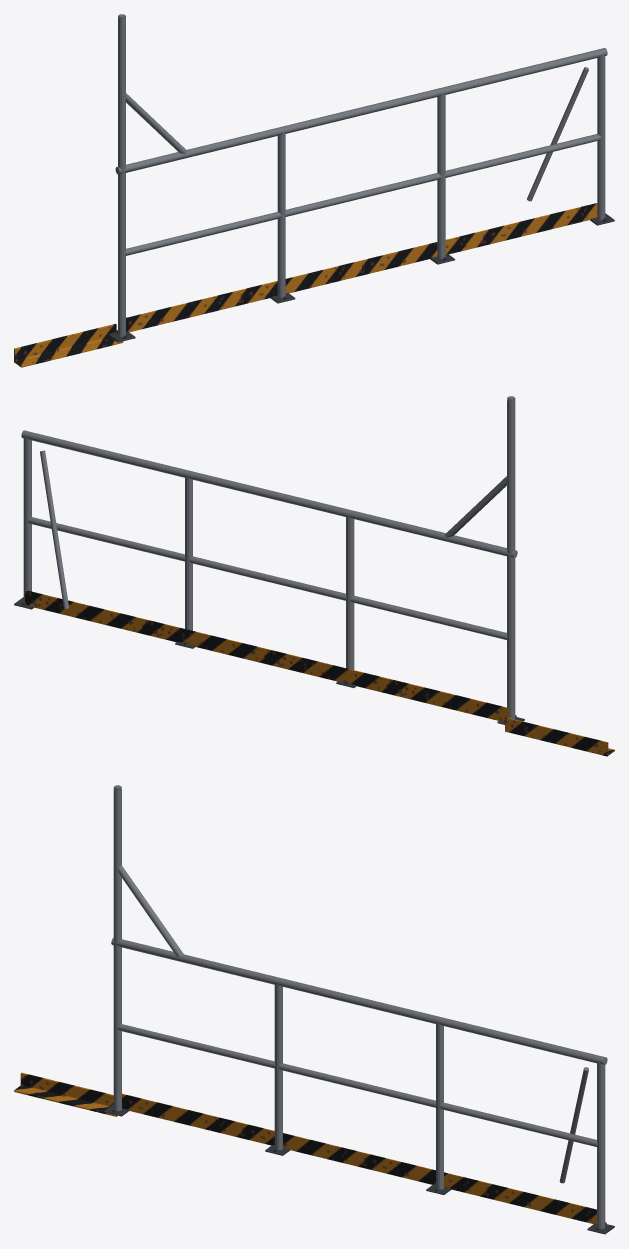
File: foundry_deck_rail_v3.glb
The picture shows the model from 3 angles, top to bottom: view 1: azimuth 30°, elevation 25°; view 2: azimuth 150°, elevation 25°; view 3: azimuth 330°, elevation 25°; orthographic projection.
Parts seen in each view (by area): view 1: rail_toe, rail_posts, rail_rail_top, rail_rail_mid, rail_nose, rail_stanchion, rail_brace_n, rail_stanchion_tie, rail_bases; view 2: rail_toe, rail_posts, rail_rail_top, rail_rail_mid, rail_stanchion, rail_nose, rail_brace_n, rail_stanchion_tie; view 3: rail_toe, rail_posts, rail_rail_top, rail_rail_mid, rail_nose, rail_stanchion, rail_stanchion_tie, rail_brace_n.
Boxes of the visible parts, left/top/right/bottom form: rail_toe: left=126, top=203, right=597, bottom=332; rail_posts: left=118, top=54, right=605, bottom=337; rail_rail_top: left=115, top=48, right=607, bottom=174; rail_rail_mid: left=125, top=134, right=601, bottom=255; rail_nose: left=14, top=324, right=123, bottom=367; rail_stanchion: left=118, top=18, right=125, bottom=335; rail_brace_n: left=527, top=67, right=588, bottom=201; rail_stanchion_tie: left=125, top=93, right=187, bottom=154; rail_bases: left=108, top=213, right=614, bottom=342; rail_toe: left=25, top=590, right=508, bottom=721; rail_posts: left=23, top=437, right=515, bottom=719; rail_rail_top: left=21, top=430, right=517, bottom=558; rail_rail_mid: left=28, top=517, right=507, bottom=639; rail_stanchion: left=507, top=400, right=515, bottom=718; rail_nose: left=505, top=717, right=614, bottom=756; rail_brace_n: left=40, top=450, right=69, bottom=608; rail_stanchion_tie: left=445, top=476, right=507, bottom=537; rail_toe: left=122, top=1093, right=596, bottom=1223; rail_posts: left=113, top=944, right=605, bottom=1228; rail_rail_top: left=111, top=938, right=607, bottom=1065; rail_rail_mid: left=117, top=1024, right=597, bottom=1146; rail_nose: left=14, top=1072, right=117, bottom=1116; rail_stanchion: left=113, top=789, right=121, bottom=1107; rail_stanchion_tie: left=117, top=865, right=183, bottom=957; rail_brace_n: left=559, top=1067, right=588, bottom=1183.
Size of the model in its own units: 4.06 by 2.15 by 0.2756.
Materials: 3 (1 with a texture image).
